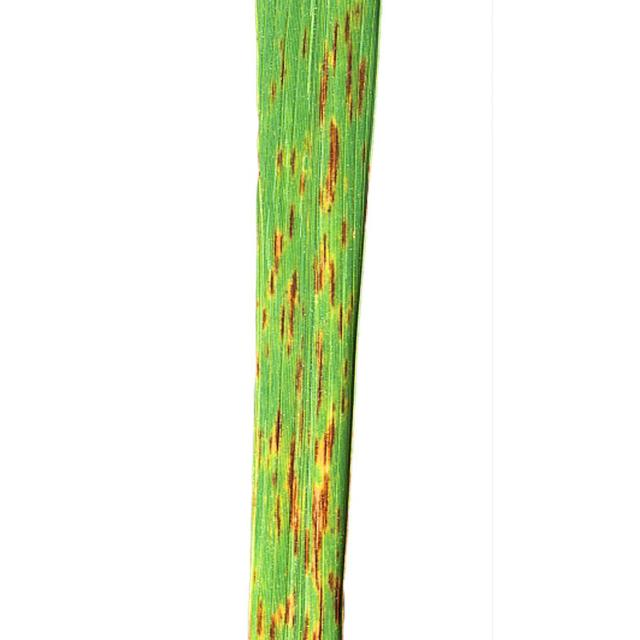Narrow brown: (216, 0, 406, 640)
